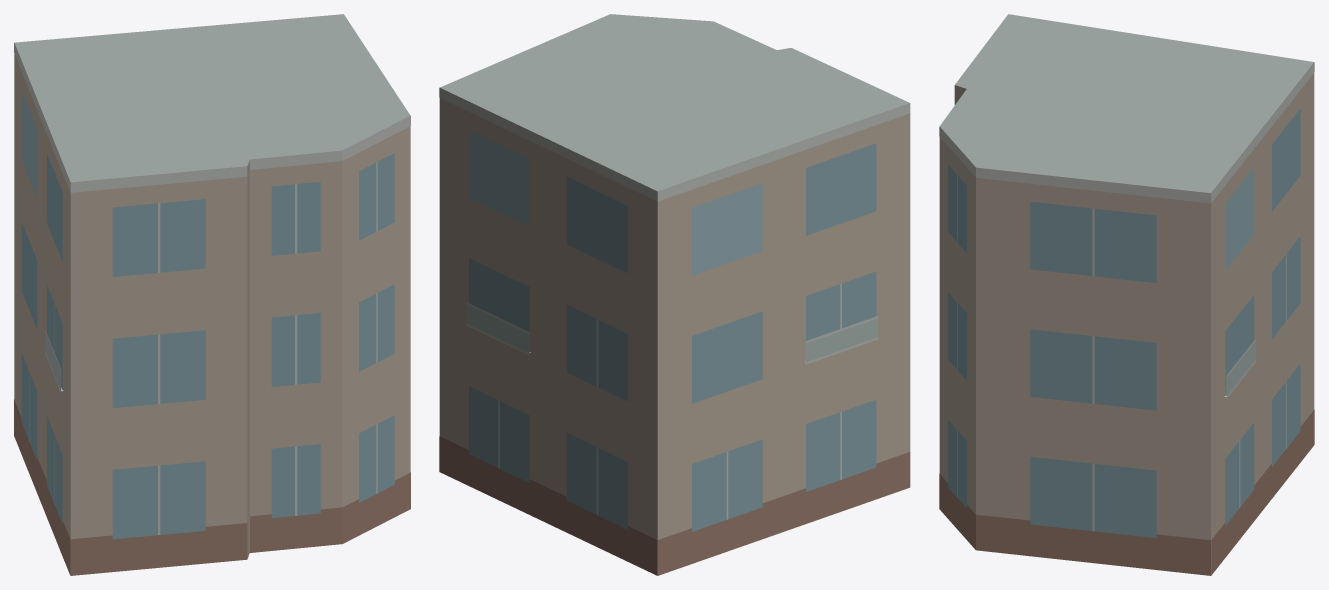
The model's file is survey-upis-32479444.glb.
The picture shows the model from 3 angles, left to right: view 1: azimuth 30°, elevation 25°; view 2: azimuth 150°, elevation 25°; view 3: azimuth 270°, elevation 25°; orthographic projection. The views are drawn at different scales.
Visible parts, largest first — view 1: survey-upis-32479444.tmp; view 2: survey-upis-32479444.tmp; view 3: survey-upis-32479444.tmp.
Boxes of the visible parts, left/top/right/bottom form: survey-upis-32479444.tmp: left=14, top=14, right=410, bottom=575; survey-upis-32479444.tmp: left=439, top=14, right=910, bottom=575; survey-upis-32479444.tmp: left=939, top=14, right=1314, bottom=575.
Bounding box in the file's own units: 9.2 × 9.15 × 8.14.
